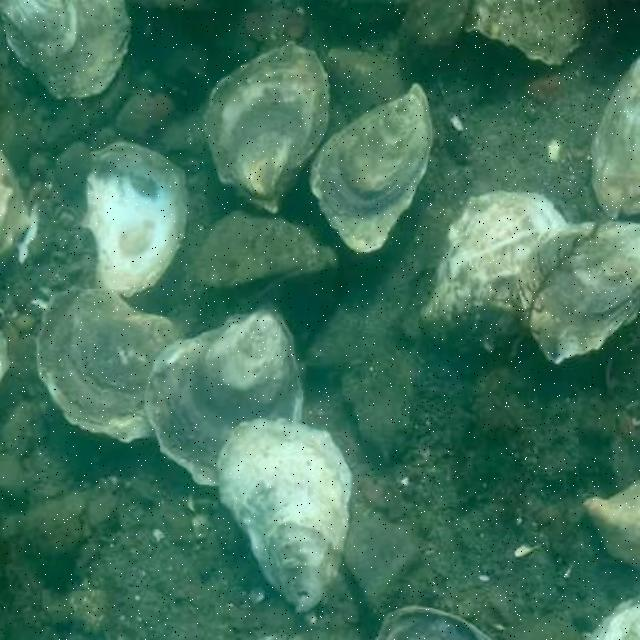Oyster-Closed: (145, 302, 304, 486), (217, 420, 352, 610), (423, 190, 572, 349), (34, 289, 181, 441), (204, 44, 331, 213), (312, 84, 433, 253), (518, 221, 640, 366), (0, 0, 130, 101), (196, 210, 334, 299), (467, 0, 593, 64), (593, 56, 640, 216), (586, 479, 640, 569)
